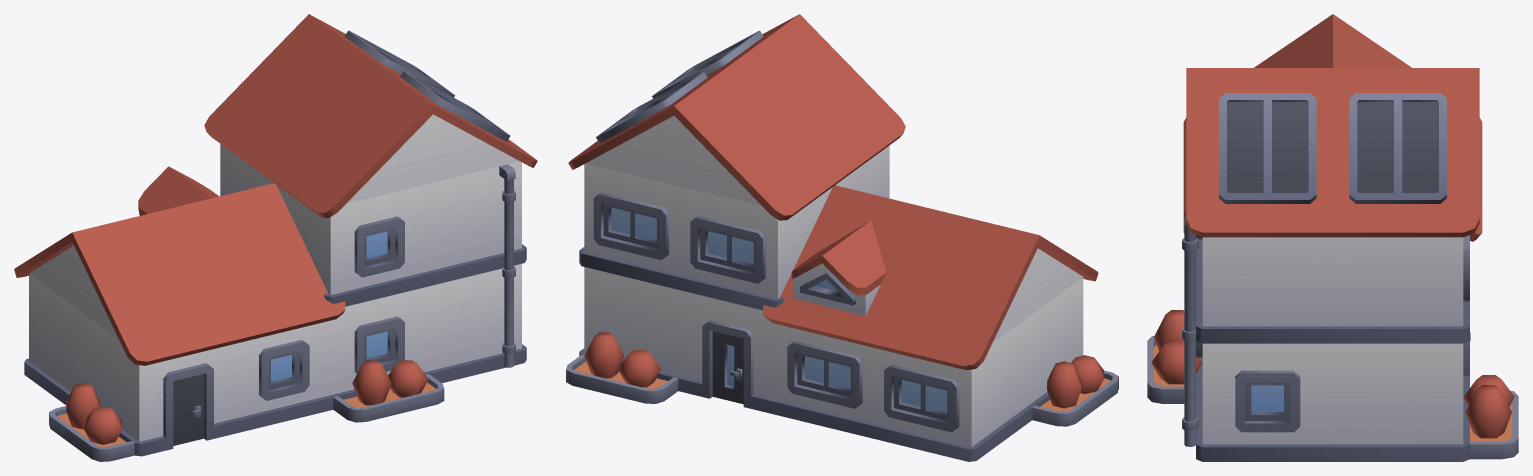
The model's file is house-b-red.glb.
3 renders of one model, left to right at view 1: azimuth 30°, elevation 25°; view 2: azimuth 150°, elevation 25°; view 3: azimuth 270°, elevation 25°, orthographic. The views are drawn at different scales.
Parts seen in each view (by area): view 1: building-type-b; view 2: building-type-b; view 3: building-type-b.
Part boxes in pixels (x1,y1,x2,y2): building-type-b: (14, 14, 537, 461); building-type-b: (566, 14, 1118, 461); building-type-b: (1147, 14, 1518, 461).
Bounding box in the file's own units: 1.83 × 1.14 × 1.14.
2 materials, 1 textured.
